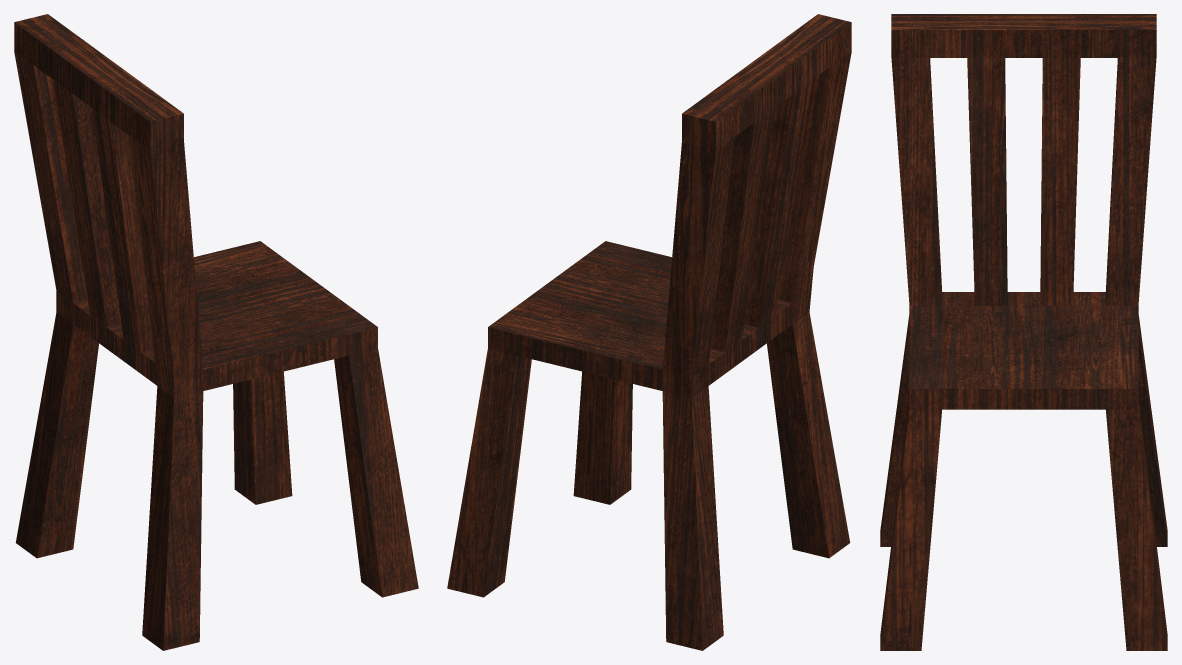
File: restaurant chair.fbx
3 views of the same model, side by side, from view 1: azimuth 30°, elevation 25°; view 2: azimuth 150°, elevation 25°; view 3: azimuth 270°, elevation 25° (orthographic). The views are drawn at different scales.
Parts seen in each view (by area): view 1: Cube; view 2: Cube; view 3: Cube.
Boxes of the visible parts, left/top/right/bottom form: Cube: left=14, top=14, right=418, bottom=650; Cube: left=447, top=14, right=851, bottom=650; Cube: left=880, top=14, right=1167, bottom=650.
Size of the model in its own units: 258 by 494 by 251.
